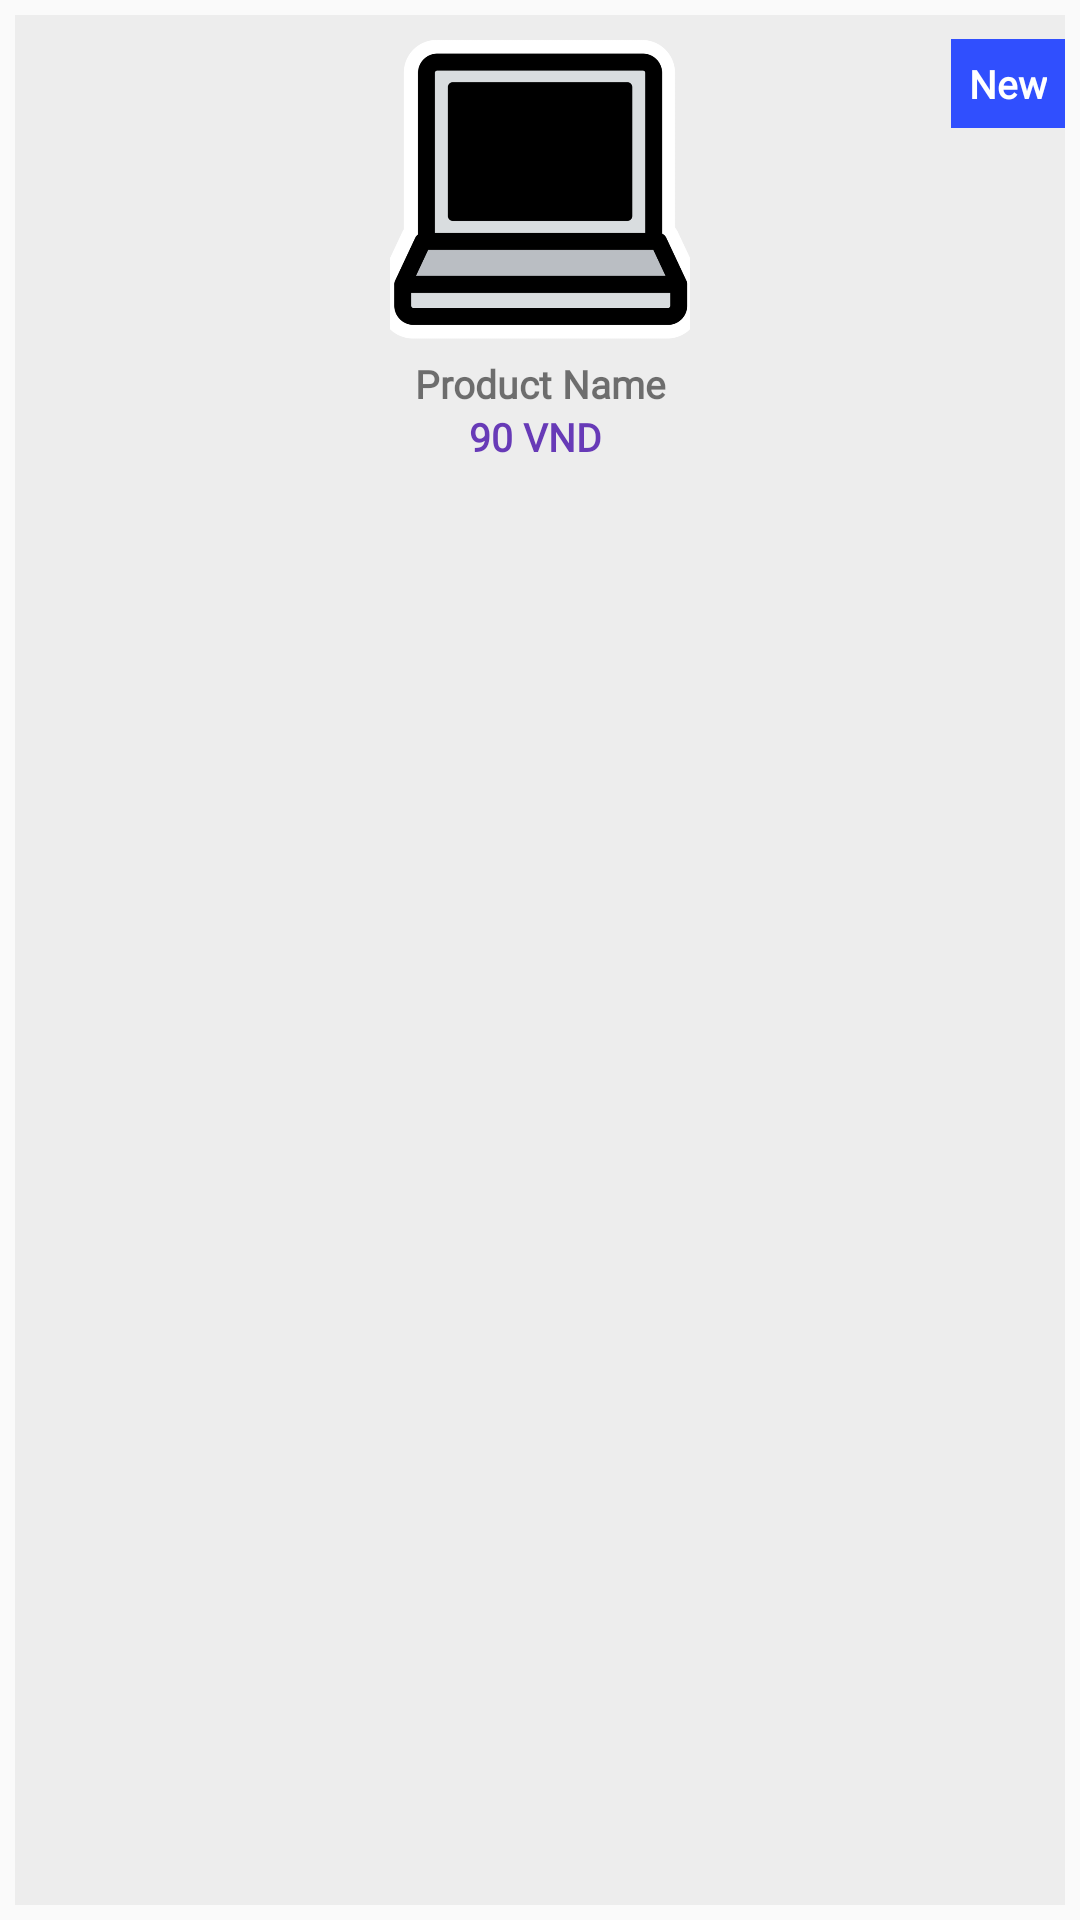

Named icons in this screenshot (1080 x 1920) and their centers, [x,y]:
laptop: [540,189]
